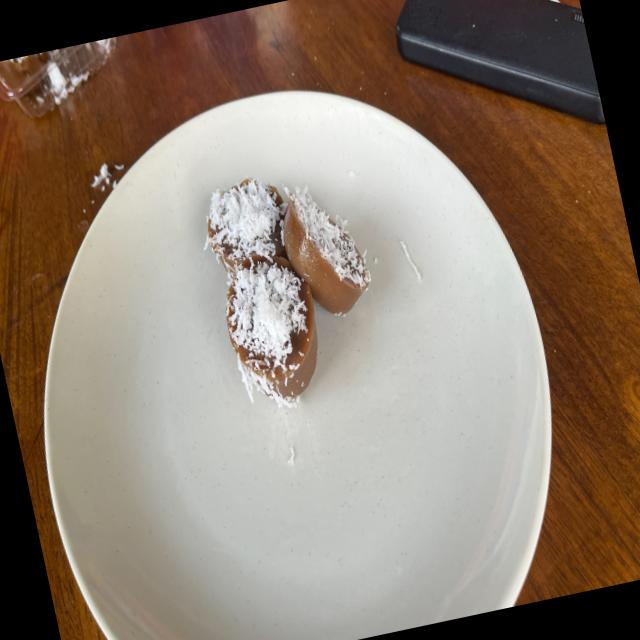Kuih lompang: (225, 256, 317, 404), (282, 186, 370, 314), (205, 178, 285, 271)
